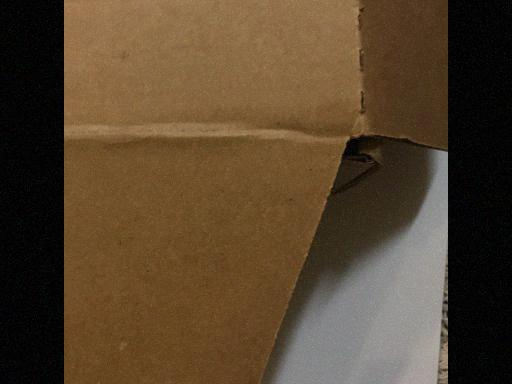cardboard: (72, 5, 446, 382)
